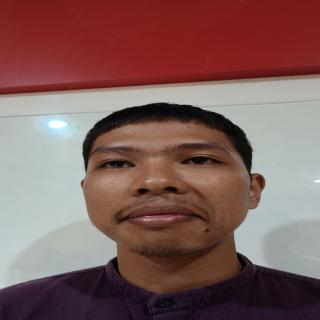Sedih: (79, 123, 257, 258)
